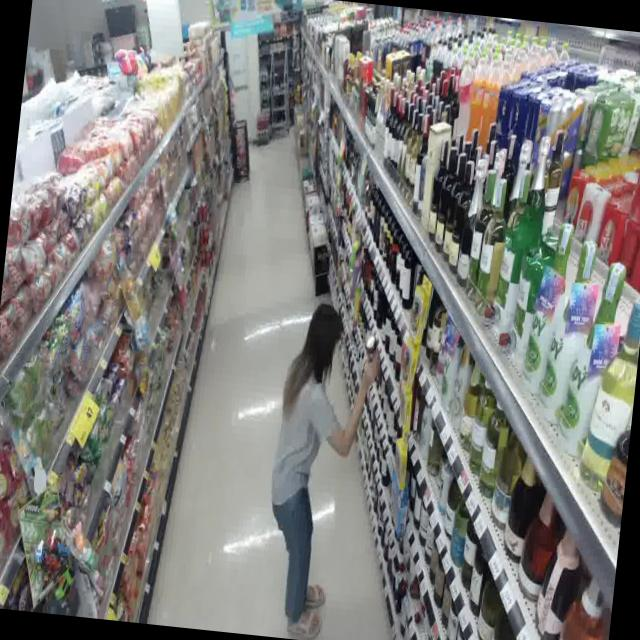pickup: (235, 273, 397, 640)
